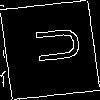U: (24, 24, 82, 66)
